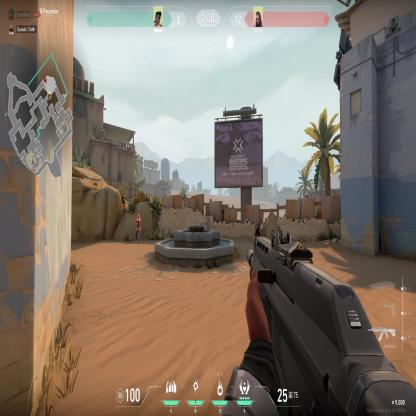enemy: (134, 211, 142, 245)
